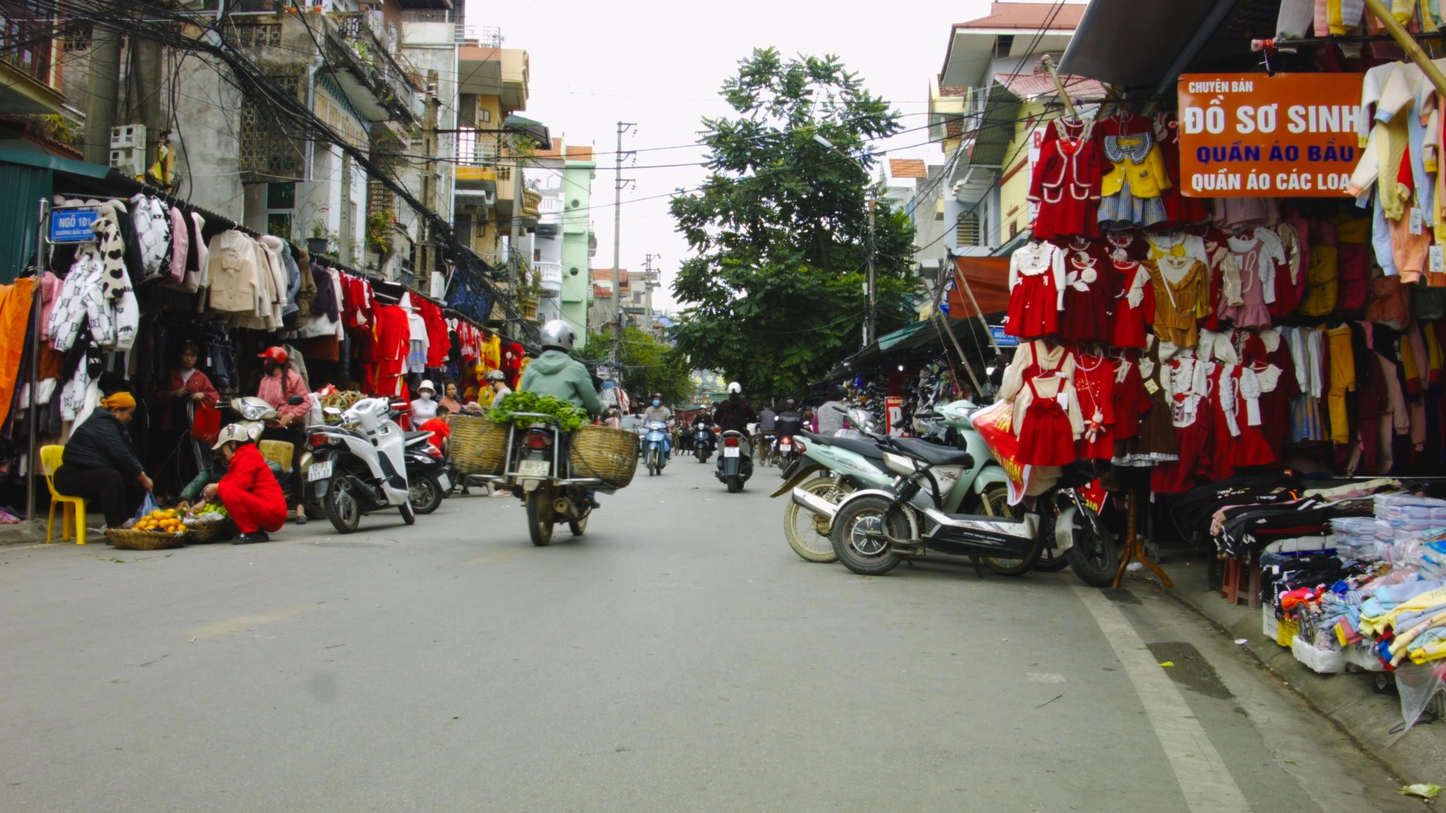bicyclist: (758, 401, 778, 468)
driver: (450, 319, 640, 547), (711, 382, 758, 493), (635, 392, 676, 476), (771, 399, 810, 472), (690, 404, 717, 464)
helmet: (212, 423, 249, 462), (539, 319, 577, 355), (257, 346, 288, 376), (486, 370, 506, 392), (728, 382, 742, 397), (651, 392, 664, 407), (699, 404, 707, 415)
no-helmet: (101, 391, 137, 428), (417, 380, 437, 400), (445, 381, 458, 398)
